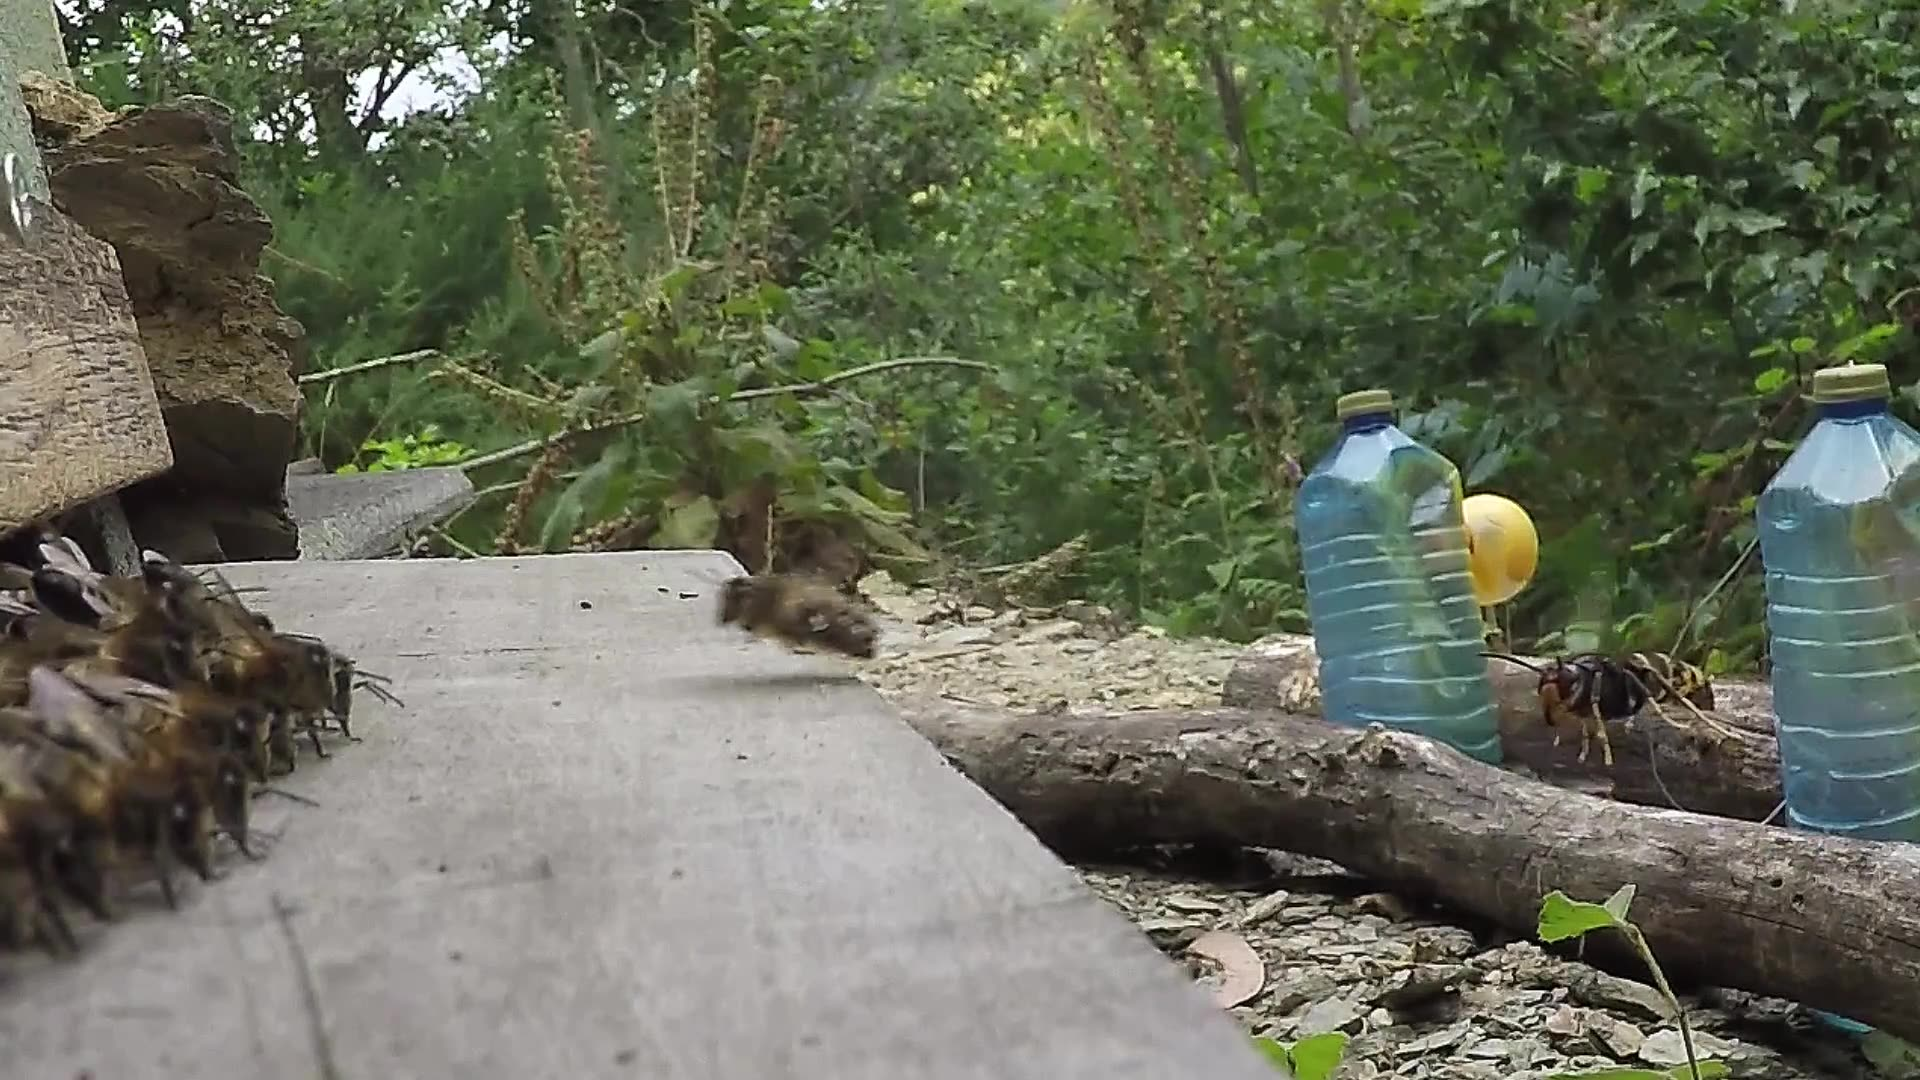bee: (1, 538, 378, 955), (717, 559, 886, 673)
hornet: (1522, 634, 1750, 762)
